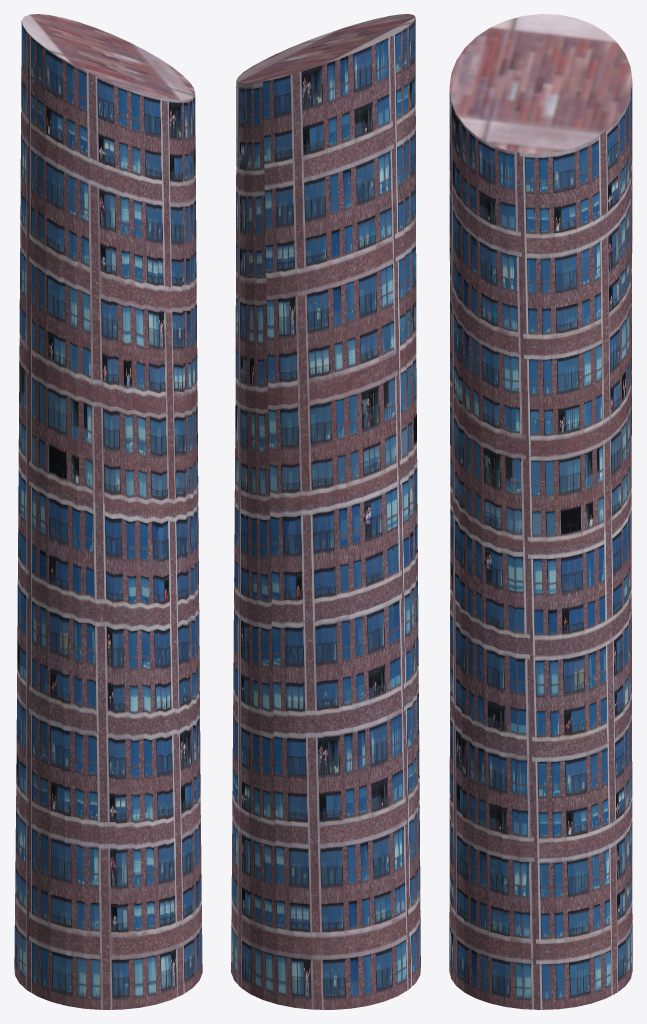
The model's file is 2skyscrapper.fbx.
3 views of the same model, side by side, from view 1: azimuth 30°, elevation 25°; view 2: azimuth 150°, elevation 25°; view 3: azimuth 270°, elevation 25° (orthographic). The views are drawn at different scales.
Parts seen in each view (by area): view 1: Cylinder; view 2: Cylinder; view 3: Cylinder.
Part boxes in pixels (<box>): Cylinder: <box>14,14,202,1009</box>; Cylinder: <box>231,14,420,1009</box>; Cylinder: <box>449,14,632,1009</box>.
Bounding box in the file's own units: 3006 × 16690 × 3006.
